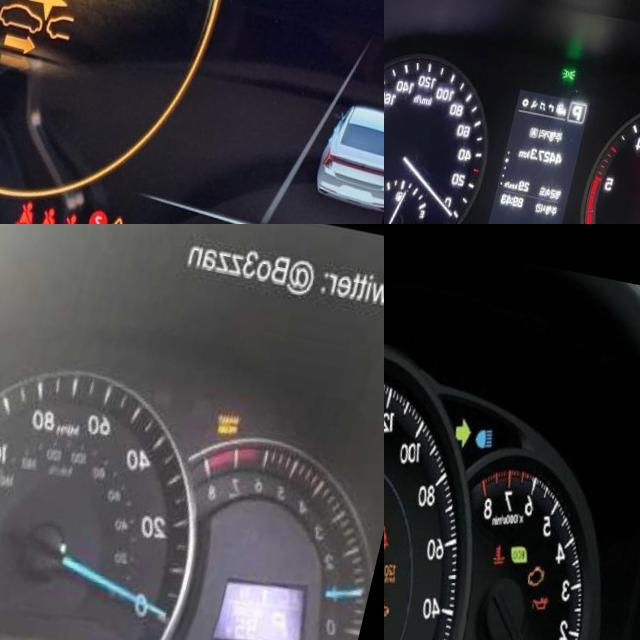Central Warning lamp: (127, 199, 157, 224)
High Engine Coolant Temperature: (506, 526, 521, 547)
Seat Belt: (389, 510, 408, 539)
SideLamp: (576, 54, 591, 68)
